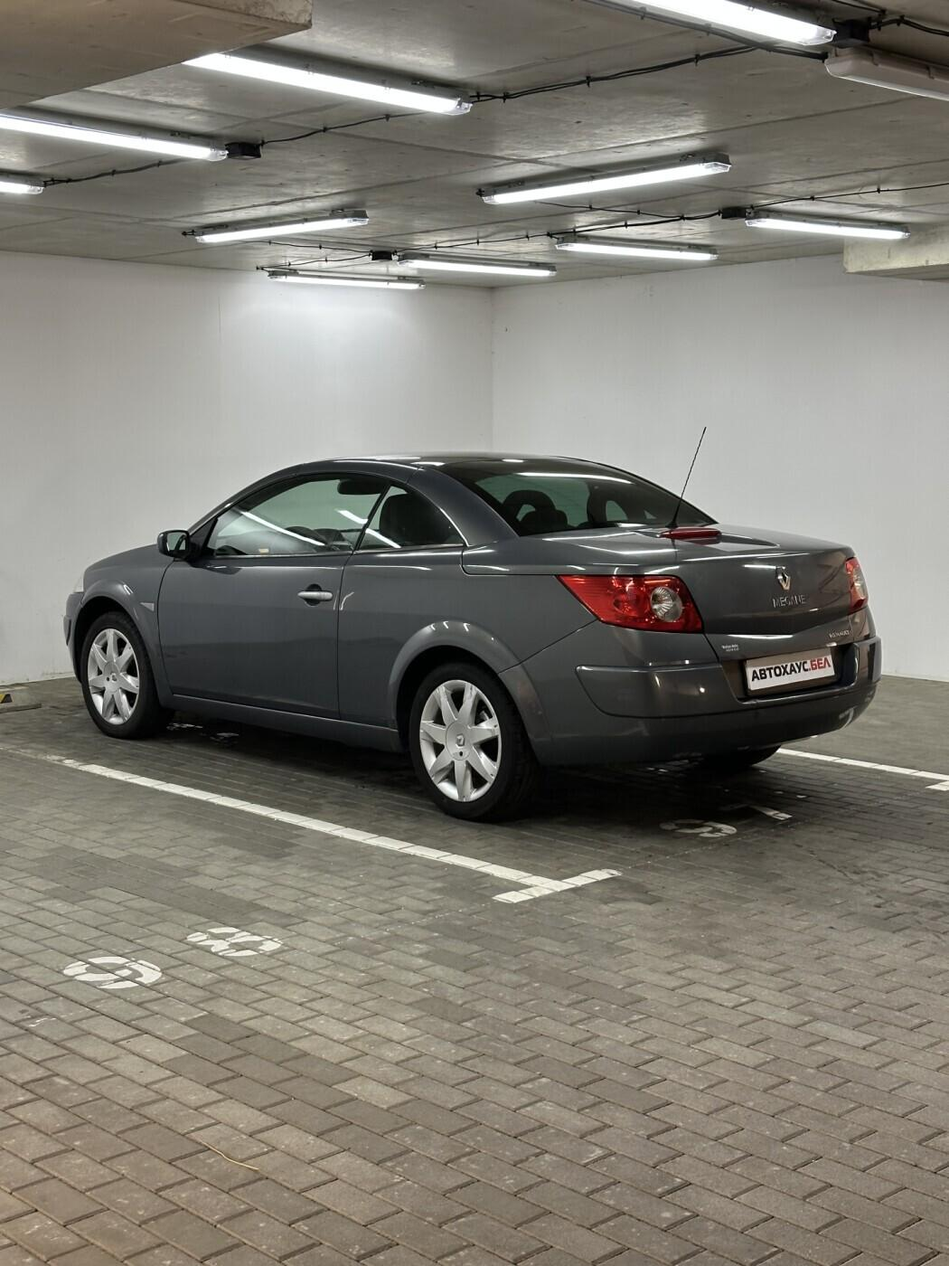Megane_2005-2009: (56, 447, 889, 848)
